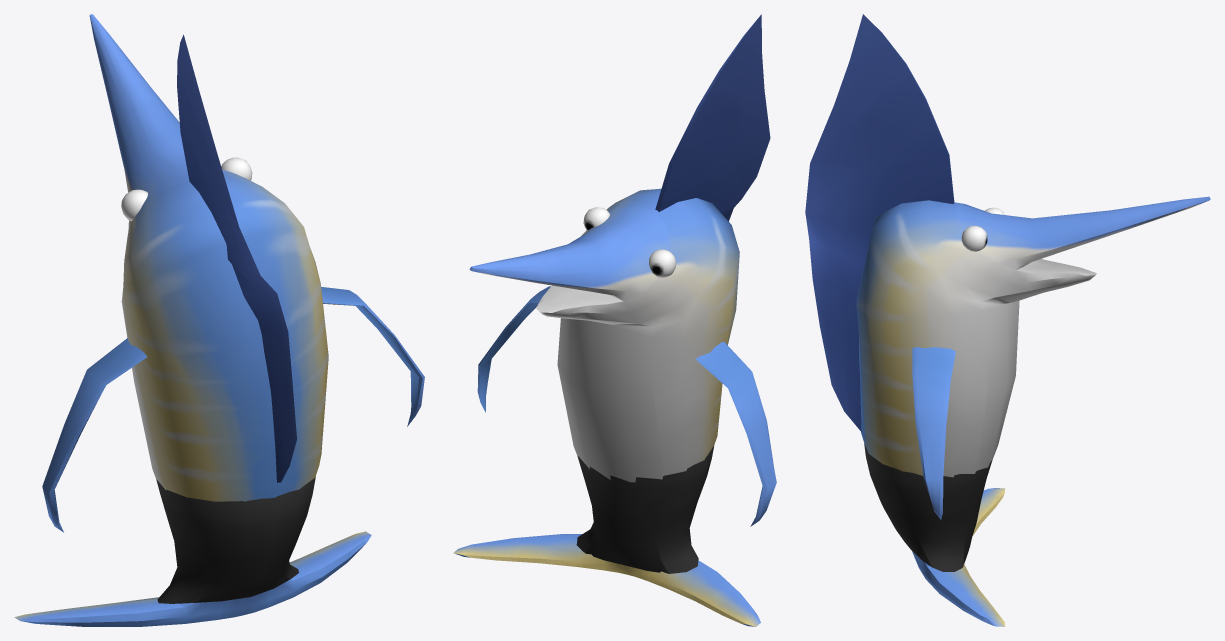
File: kajiki_idle_a_01.fbx
3 renders of one model, left to right at view 1: azimuth 30°, elevation 25°; view 2: azimuth 150°, elevation 25°; view 3: azimuth 270°, elevation 25°, orthographic. The views are drawn at different scales.
Parts seen in each view (by area): view 1: I_a_01; view 2: I_a_01; view 3: I_a_01.
Boxes of the visible parts, bbox=[...] form: I_a_01: bbox=[14, 14, 424, 626]; I_a_01: bbox=[453, 14, 776, 626]; I_a_01: bbox=[805, 14, 1210, 626].
Size of the model in its own units: 1.51 by 2.5 by 1.81.
Materials: 1 (1 with a texture image).
